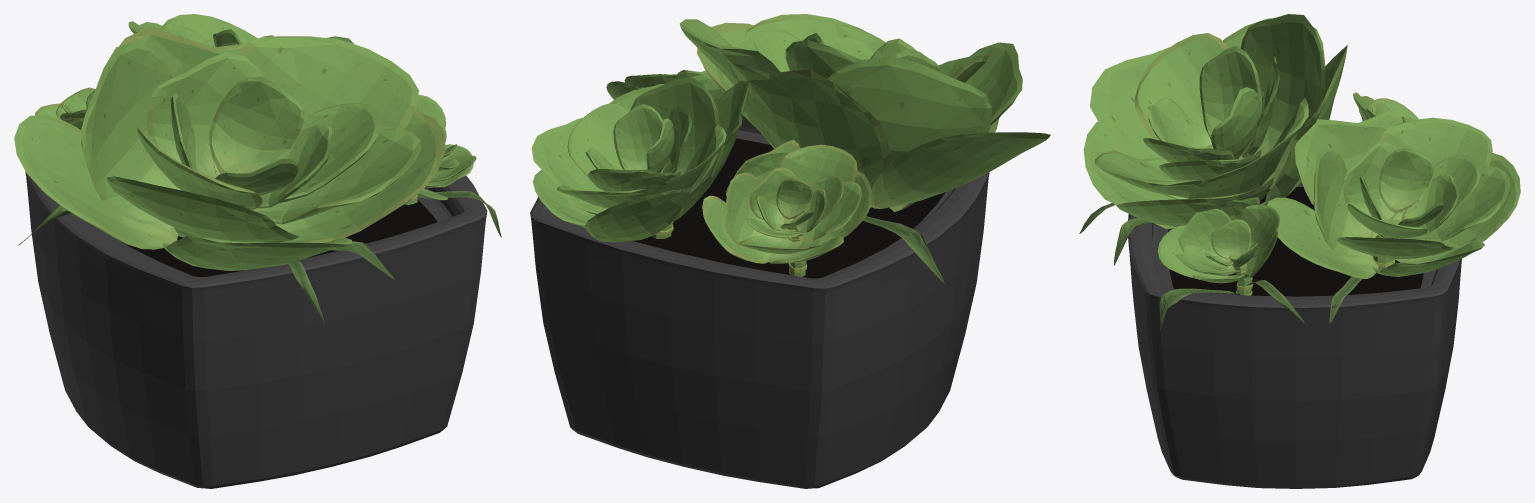
Rendered from succulentPlant.obj.
The picture shows the model from 3 angles, left to right: view 1: azimuth 30°, elevation 25°; view 2: azimuth 150°, elevation 25°; view 3: azimuth 270°, elevation 25°; orthographic projection. The views are drawn at different scales.
Visible parts, largest first — view 1: Cube_Cube.001, Plane.040_Plane.054, Plane.038_Plane.052, Plane.034_Plane.048, Plane.033, Plane.039_Plane.053, Plane.037_Plane.051, Plane.041_Plane.055, Plane.044_Plane.058, Plane.036_Plane.050, Plane.042_Plane.056, Plane.043_Plane.057 (+8 smaller); view 2: Cube_Cube.001, Plane.038_Plane.052, Plane.035_Plane.049, Plane.034_Plane.048, Plane.066_Plane.080, Plane.065_Plane.079, Plane.067_Plane.081, Plane.039_Plane.053, Plane.071_Plane.085, Plane.074_Plane.088, Plane.040_Plane.054, Plane.063_Plane.077 (+27 smaller); view 3: Cube_Cube.001, Plane.038_Plane.052, Plane.043_Plane.057, Plane.039_Plane.053, Plane.063_Plane.077, Plane.068_Plane.082, Plane.062_Plane.076, Plane.066_Plane.080, Plane.046_Plane.060, Plane.040_Plane.054, Plane.069_Plane.083, Plane.022_Plane.037 (+24 smaller).
Part boxes in pixels (x1,y1,x2,y2): Cube_Cube.001: (25,171,487,488); Plane.040_Plane.054: (237,36,418,129); Plane.038_Plane.052: (81,42,181,227); Plane.034_Plane.048: (14,115,177,249); Plane.033: (209,76,304,173); Plane.039_Plane.053: (106,176,299,242); Plane.037_Plane.051: (275,111,445,242); Plane.041_Plane.055: (252,126,421,224); Plane.044_Plane.058: (146,51,263,176); Plane.036_Plane.050: (162,236,352,270); Plane.042_Plane.056: (279,102,381,203); Plane.043_Plane.057: (137,127,262,209); Cube_Cube.001: (530,115,989,488); Plane.038_Plane.052: (827,56,992,164); Plane.035_Plane.049: (726,57,889,189); Plane.034_Plane.048: (870,132,1050,208); Plane.066_Plane.080: (630,76,719,193); Plane.065_Plane.079: (585,187,690,242); Plane.067_Plane.081: (531,118,607,214); Plane.039_Plane.053: (965,42,1022,125); Plane.071_Plane.085: (567,103,628,176); Plane.074_Plane.088: (613,104,666,173); Plane.040_Plane.054: (679,19,779,85); Plane.063_Plane.077: (673,80,749,221); Cube_Cube.001: (1128,182,1461,488); Plane.038_Plane.052: (1240,14,1325,189); Plane.043_Plane.057: (1135,33,1229,140); Plane.039_Plane.053: (1090,47,1187,199); Plane.063_Plane.077: (1294,109,1403,237); Plane.068_Plane.082: (1379,117,1492,166); Plane.062_Plane.076: (1267,197,1378,278); Plane.066_Plane.080: (1313,149,1373,257); Plane.046_Plane.060: (1199,46,1261,156); Plane.040_Plane.054: (1188,97,1308,198); Plane.069_Plane.083: (1401,166,1509,241); Plane.022_Plane.037: (1378,147,1434,212).
Bounding box in the file's own units: 13.69 × 11.37 × 12.89.
Materials: 5 (3 with a texture image).
